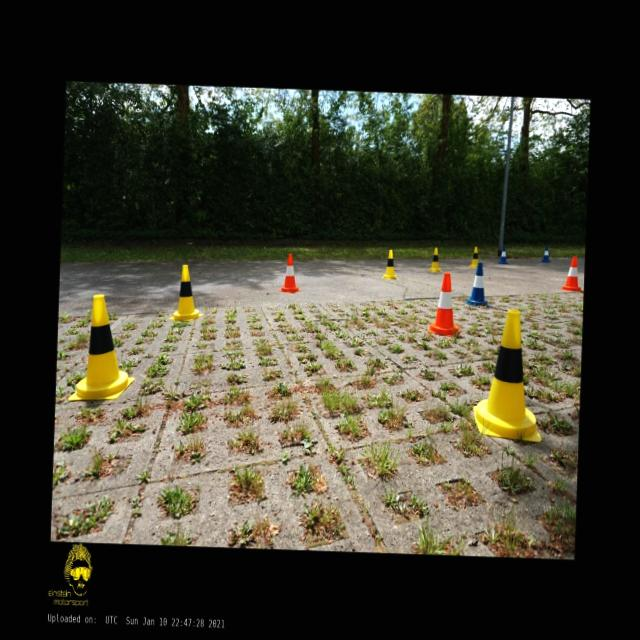blue_cone: (465, 261, 493, 307), (497, 244, 508, 264), (541, 244, 550, 262)
orange_cone: (427, 272, 462, 335), (277, 253, 302, 293), (561, 255, 582, 291)
yellow_cone: (472, 308, 546, 442), (68, 292, 137, 402), (168, 264, 205, 320), (381, 248, 397, 278), (428, 246, 442, 272), (470, 246, 480, 267)
